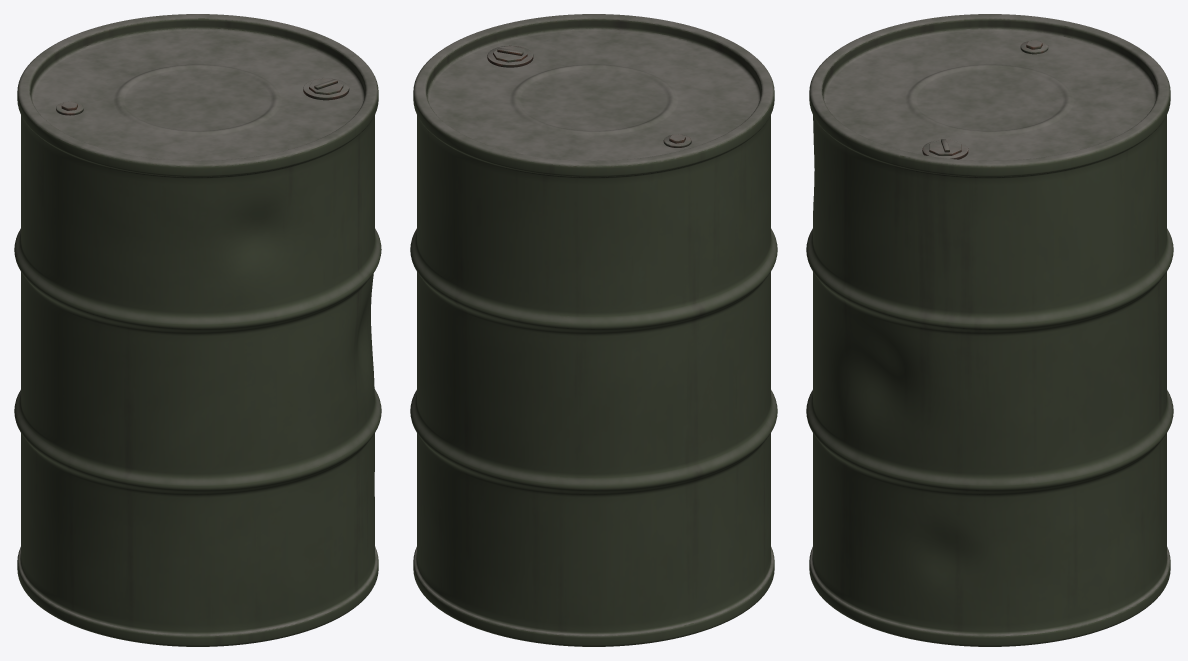
File: SM_OilDrum_Green.fbx
The picture shows the model from 3 angles, left to right: view 1: azimuth 30°, elevation 25°; view 2: azimuth 150°, elevation 25°; view 3: azimuth 270°, elevation 25°; orthographic projection.
Parts seen in each view (by area): view 1: SM_OilDrum_Green; view 2: SM_OilDrum_Green; view 3: SM_OilDrum_Green.
Boxes of the visible parts, x1,y1,x2,y2 form: SM_OilDrum_Green: (14, 14, 381, 646); SM_OilDrum_Green: (410, 14, 777, 646); SM_OilDrum_Green: (806, 14, 1173, 646).
Size of the model in its own units: 0.607 by 0.88 by 0.607.
Materials: 1 (1 with a texture image).
